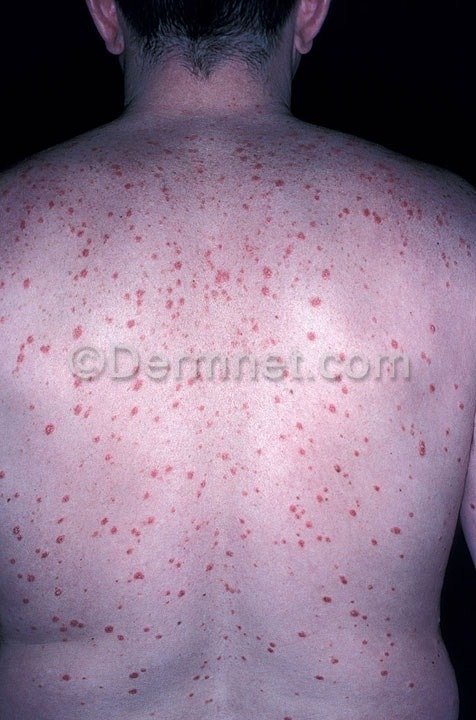Psoriasis: (27, 381, 426, 703), (51, 142, 456, 351)
